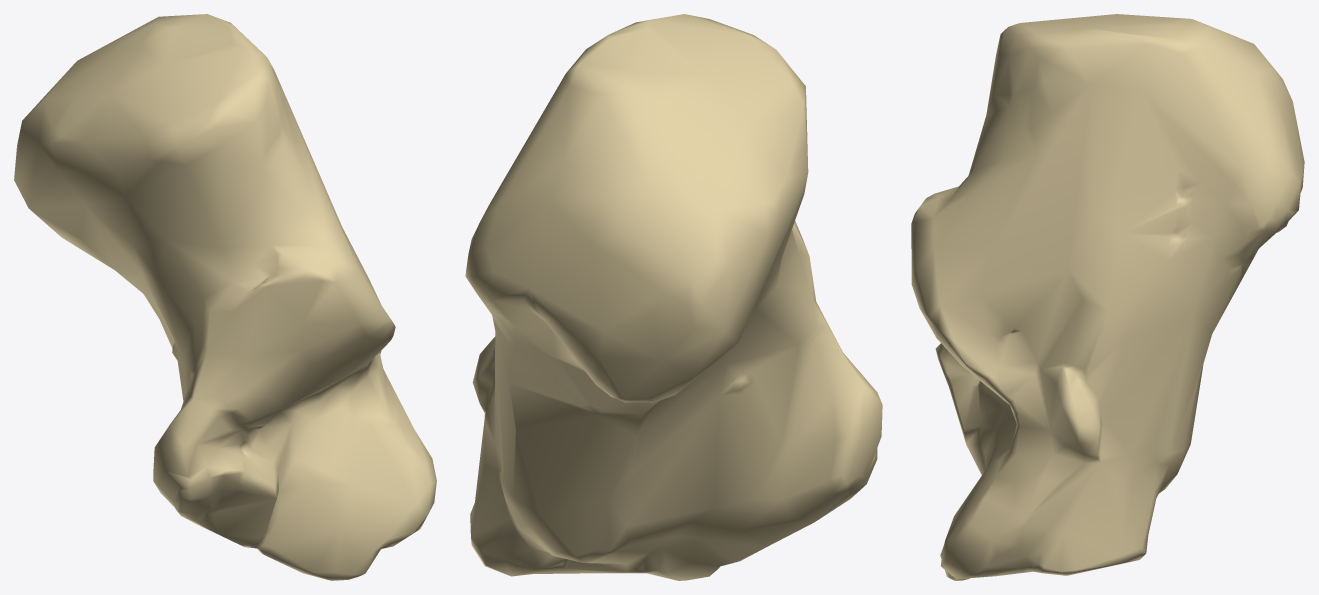
The picture shows the model from 3 angles, left to right: view 1: azimuth 30°, elevation 25°; view 2: azimuth 150°, elevation 25°; view 3: azimuth 270°, elevation 25°; orthographic projection. The views are drawn at different scales.
Visible parts, largest first — view 1: 左侧跟骨; view 2: 左侧跟骨; view 3: 左侧跟骨.
Boxes of the visible parts, box(x1,y1,x2,y2) form: 左侧跟骨: box(14, 14, 436, 580); 左侧跟骨: box(465, 14, 882, 580); 左侧跟骨: box(911, 14, 1304, 580).
Bounding box in the file's own units: 0.07 × 0.1115 × 0.0753.
